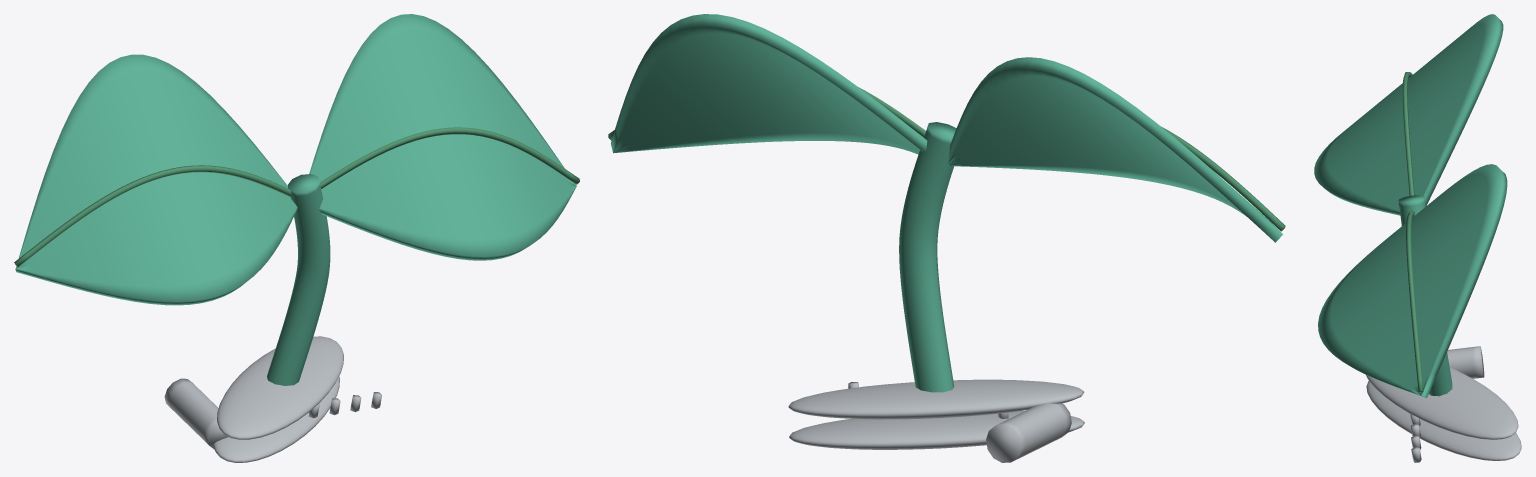
Rendered from Feminine-ponytail--none-sprout.glb.
3 renders of one model, left to right at view 1: azimuth 30°, elevation 25°; view 2: azimuth 150°, elevation 25°; view 3: azimuth 270°, elevation 25°, orthographic. The views are drawn at different scales.
Parts seen in each view (by area): view 1: 226 extra / Accessory / mint226, 226 extra / Sprout / clip silver235, 226 extra / Sprout / leaf vein235; view 2: 226 extra / Accessory / mint226, 226 extra / Sprout / clip silver235, 226 extra / Sprout / leaf vein235; view 3: 226 extra / Accessory / mint226, 226 extra / Sprout / clip silver235, 226 extra / Sprout / leaf vein235.
Part boxes in pixels (x1,y1,x2,y2): 226 extra / Accessory / mint226: [15, 14, 576, 385]; 226 extra / Sprout / clip silver235: [164, 336, 381, 462]; 226 extra / Sprout / leaf vein235: [14, 127, 579, 267]; 226 extra / Accessory / mint226: [611, 14, 1282, 392]; 226 extra / Sprout / clip silver235: [788, 379, 1084, 462]; 226 extra / Sprout / leaf vein235: [608, 87, 1285, 231]; 226 extra / Accessory / mint226: [1314, 14, 1507, 397]; 226 extra / Sprout / clip silver235: [1366, 346, 1521, 462]; 226 extra / Sprout / leaf vein235: [1402, 72, 1423, 392].
Size of the model in its own units: 0.2704 by 0.1707 by 0.0914.
